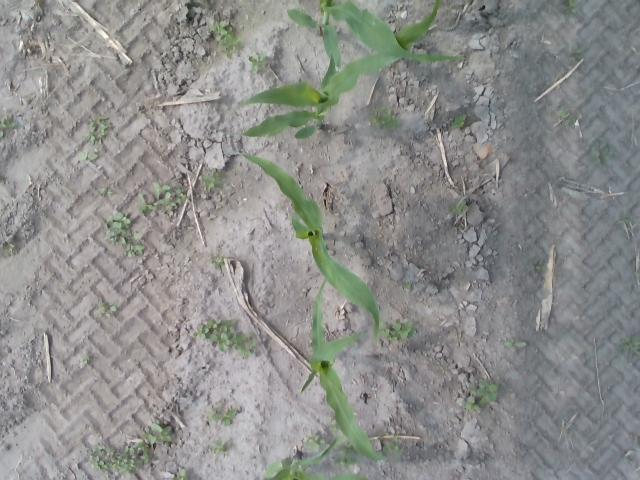Maize: (239, 3, 440, 140), (239, 151, 379, 338), (300, 278, 386, 462), (286, 0, 468, 70), (262, 437, 366, 480)
Weeds: (192, 320, 255, 357), (88, 445, 150, 472), (85, 118, 112, 145), (106, 211, 131, 240), (382, 319, 412, 341), (220, 35, 246, 59), (158, 188, 186, 210), (208, 402, 236, 422), (372, 108, 399, 128), (248, 51, 266, 75), (456, 396, 480, 414), (1, 114, 18, 138), (475, 382, 497, 400), (302, 436, 326, 452), (126, 241, 148, 258), (136, 193, 156, 211), (152, 424, 172, 441), (623, 336, 640, 354), (209, 23, 227, 40), (200, 174, 217, 192), (141, 428, 157, 444), (335, 457, 358, 468), (448, 202, 468, 214), (99, 302, 118, 314), (90, 456, 106, 469), (504, 338, 526, 347), (384, 437, 398, 451), (212, 441, 228, 453), (78, 152, 96, 162), (213, 170, 224, 186), (454, 114, 466, 128), (153, 182, 169, 192), (533, 259, 546, 271), (564, 0, 576, 13), (176, 469, 188, 480), (98, 186, 112, 195), (213, 256, 223, 266), (80, 352, 88, 364), (6, 244, 15, 253), (594, 151, 601, 162), (604, 147, 612, 156), (558, 110, 566, 118)
